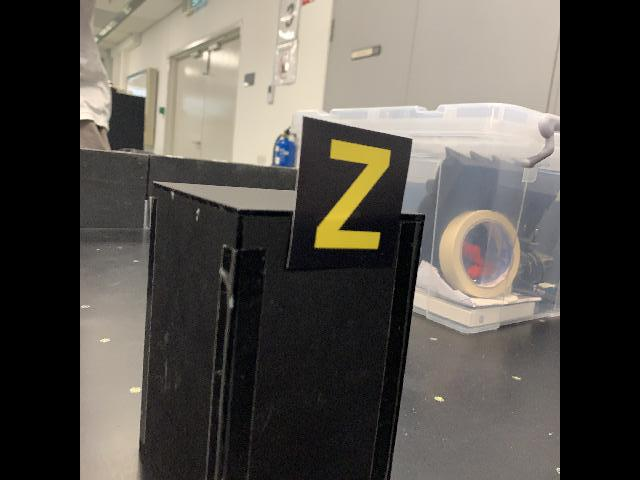alphabet_z: (284, 113, 414, 275)
